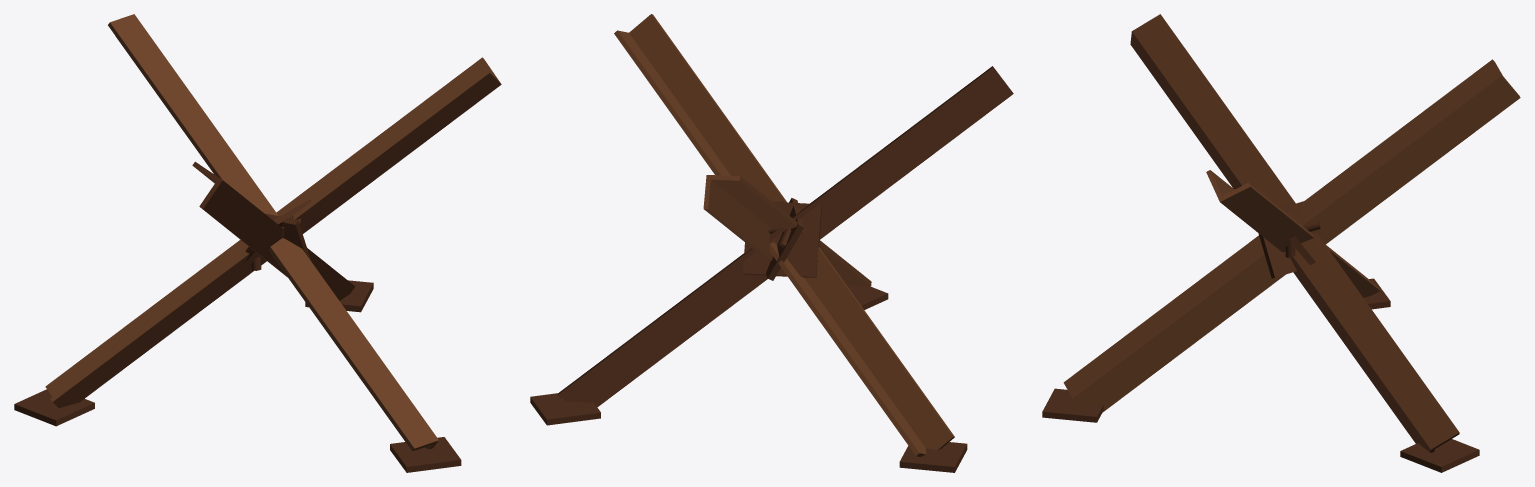
File: hedgehog_beach.glb
The picture shows the model from 3 angles, left to right: view 1: azimuth 30°, elevation 25°; view 2: azimuth 150°, elevation 25°; view 3: azimuth 270°, elevation 25°; orthographic projection.
Parts seen in each view (by area): view 1: hedgehog_beach; view 2: hedgehog_beach; view 3: hedgehog_beach.
Part boxes in pixels (bbox=[...]): hedgehog_beach: bbox=[14, 14, 501, 472]; hedgehog_beach: bbox=[530, 14, 1013, 472]; hedgehog_beach: bbox=[1042, 14, 1520, 472].
Size of the model in its own units: 2.15 by 1.62 by 2.22.
